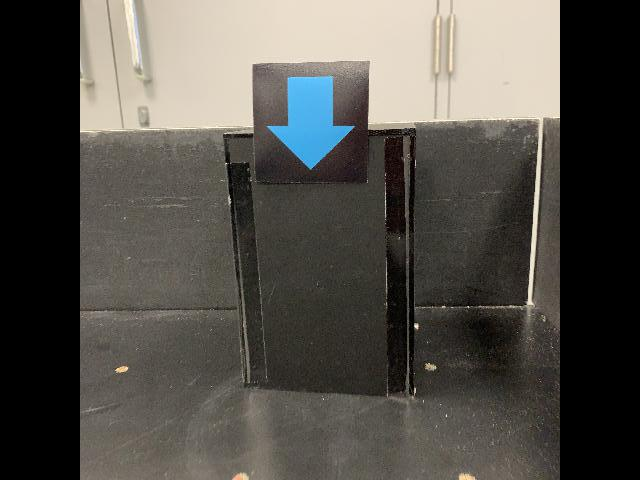down_arrow: (251, 60, 370, 185)
